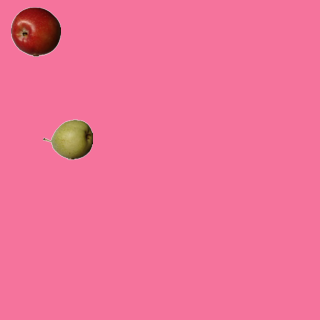Apple Braeburn: (10, 6, 60, 56)
Pear: (42, 114, 92, 164)
